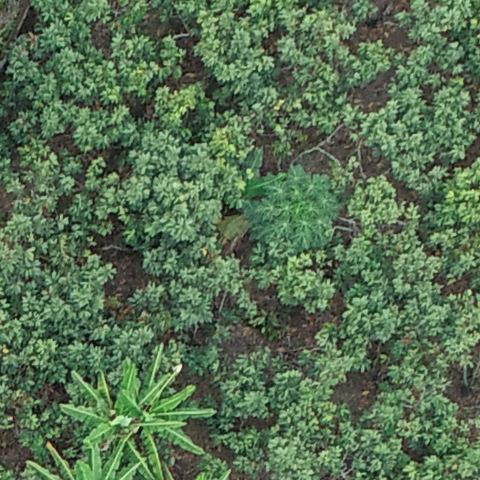Banana-plant: (120, 340, 218, 459), (58, 357, 141, 448)
